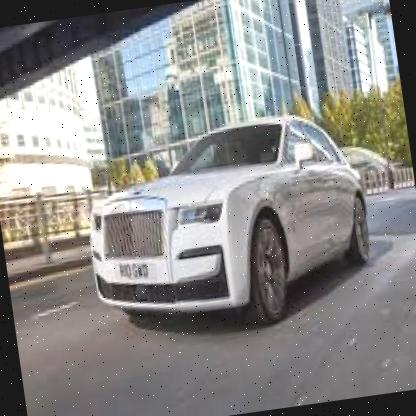car: (70, 100, 388, 355)
